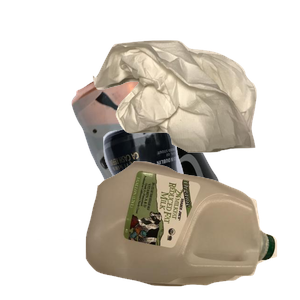glass: (37, 120, 231, 300)
metal: (69, 58, 300, 238)
plastic: (83, 159, 300, 300)
trash: (90, 38, 300, 183)
